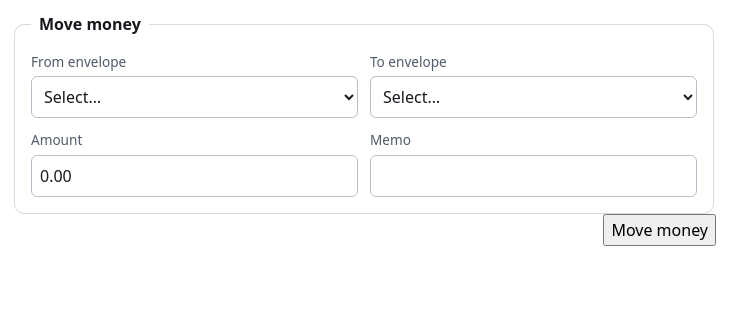
Move money between envelopes (FEAT-007 #7b) › a client-side validation error is surfaced inline
Note: Same envelope on both sides → client-side guard message.
Select "Groceries" in the dropdown labelled "From envelope": [194, 97] box x1=31 y1=76 x2=358 y2=118
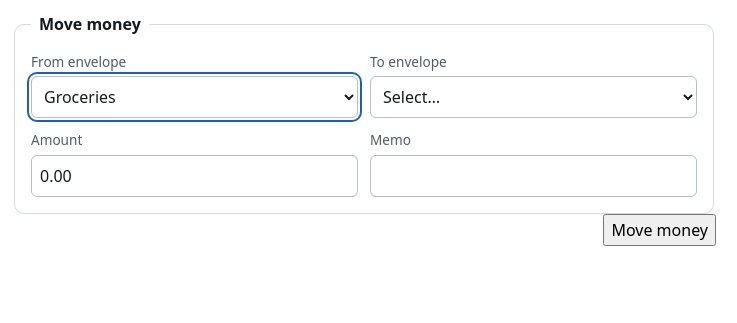
Select "Groceries" in the dropdown labelled "To envelope": [534, 97] box x1=370 y1=76 x2=697 y2=118
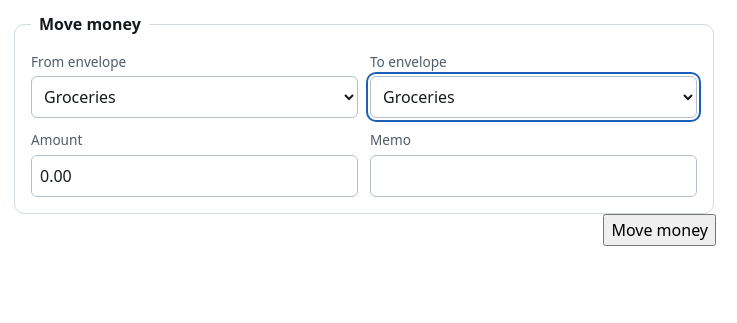
Replace the text in the field labelled "Amount" with "10.00": [194, 176] box x1=31 y1=155 x2=358 y2=197
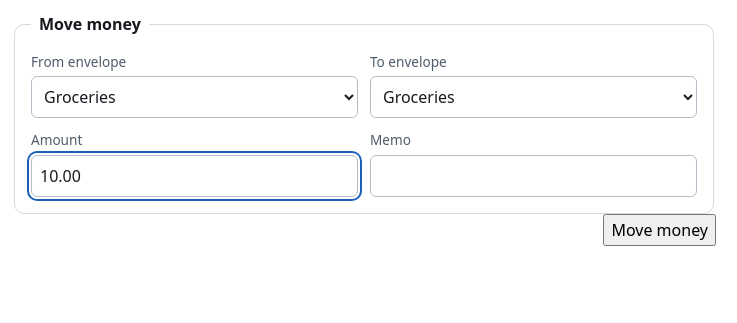
Click the button "Move money": [660, 230] box x1=603 y1=214 x2=716 y2=246
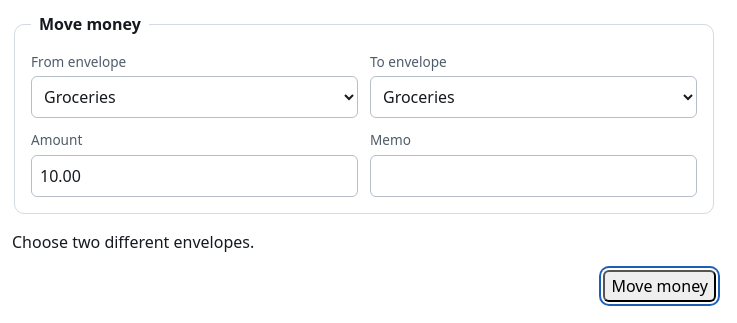
expect the message "Choose two different envelopes." is shown: met, box x1=12 y1=231 x2=254 y2=253
